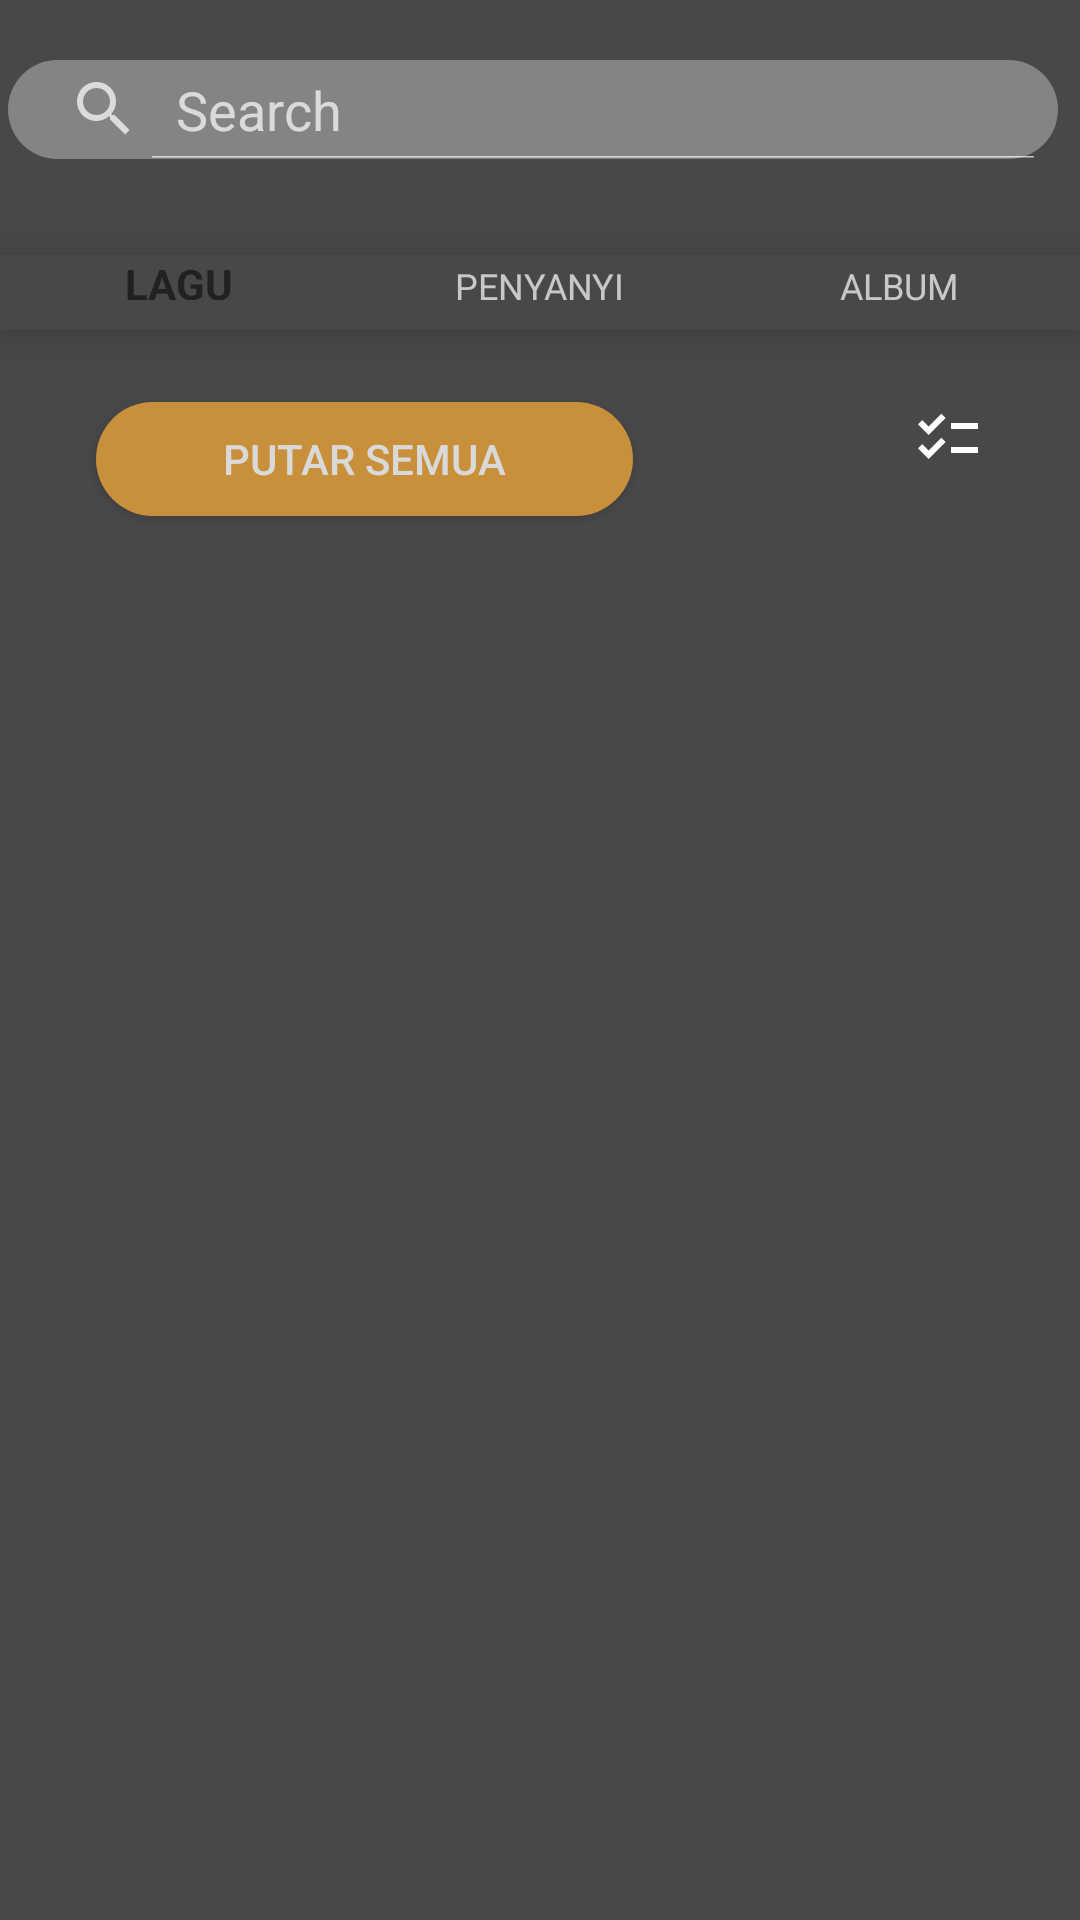

Icon bounding boxes for this 1080 × 1920 phone screenshot, format (x1, y1, x2, y2):
checklist: (918, 414, 978, 459)
